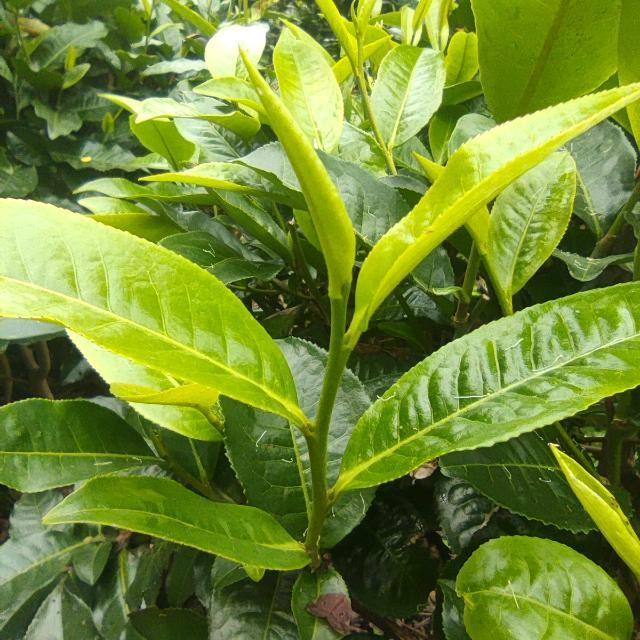Stem: (326, 348, 351, 371)
